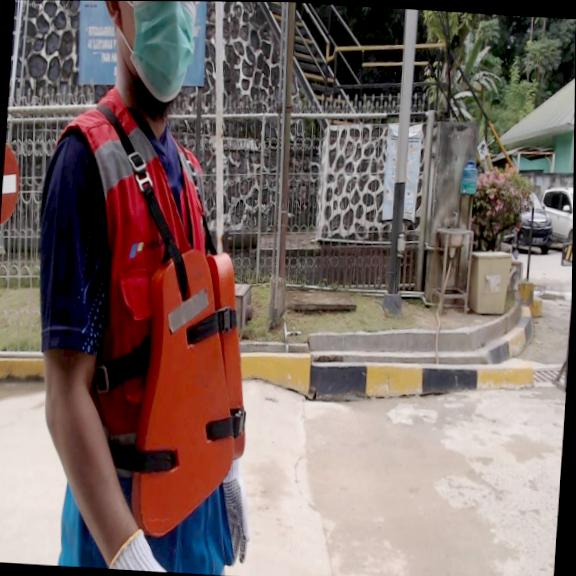safety_vest: (115, 243, 259, 546)
